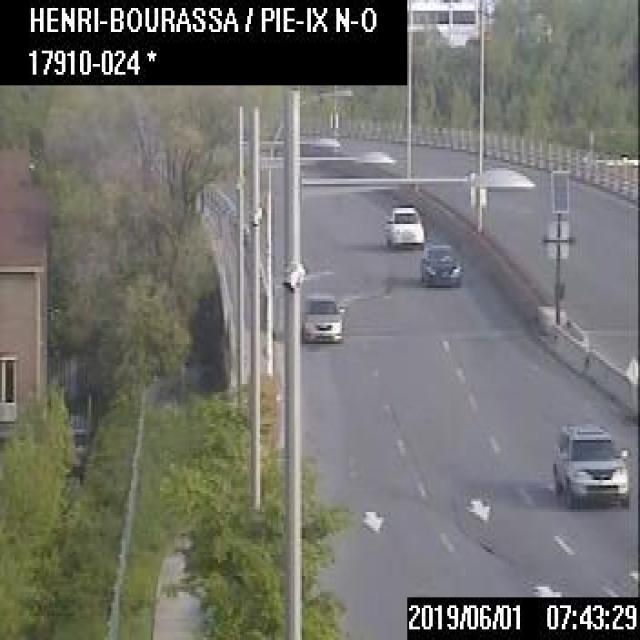vehicle: (549, 419, 629, 509), (300, 291, 344, 341), (418, 243, 462, 288), (382, 204, 423, 245)
